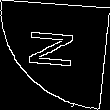N_E: (26, 32, 84, 78)
